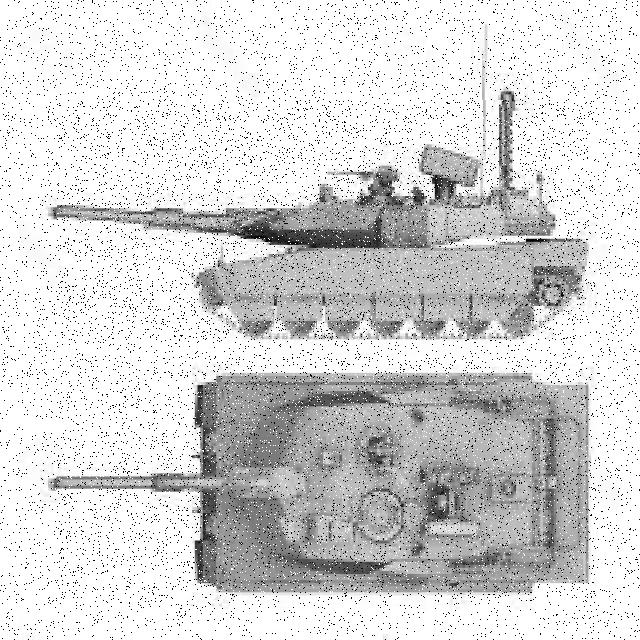MIL_MBT: (57, 356, 593, 598), (57, 100, 587, 342)
